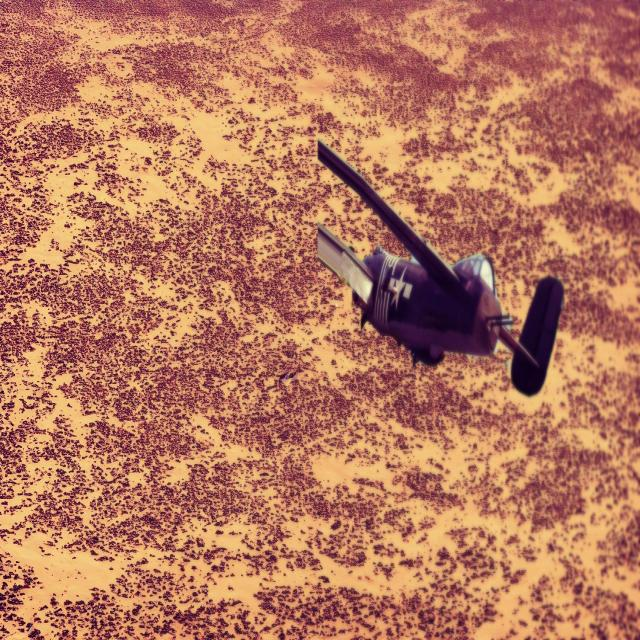airplane: (316, 136, 564, 396)
